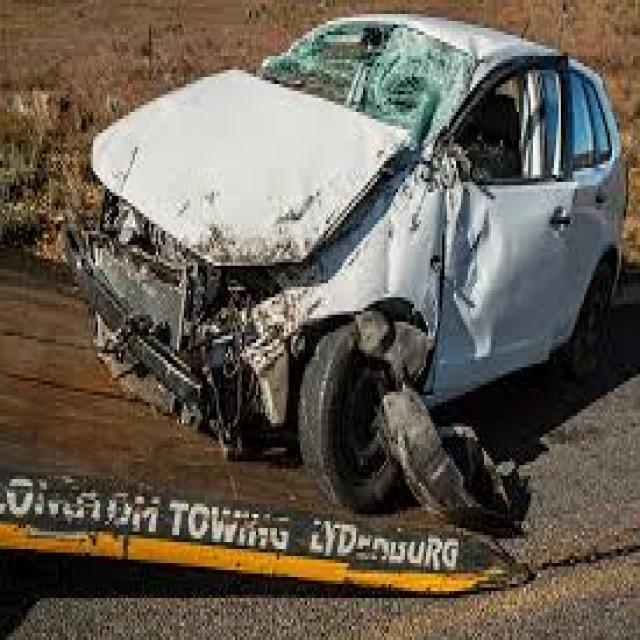accident: (76, 21, 618, 518)
